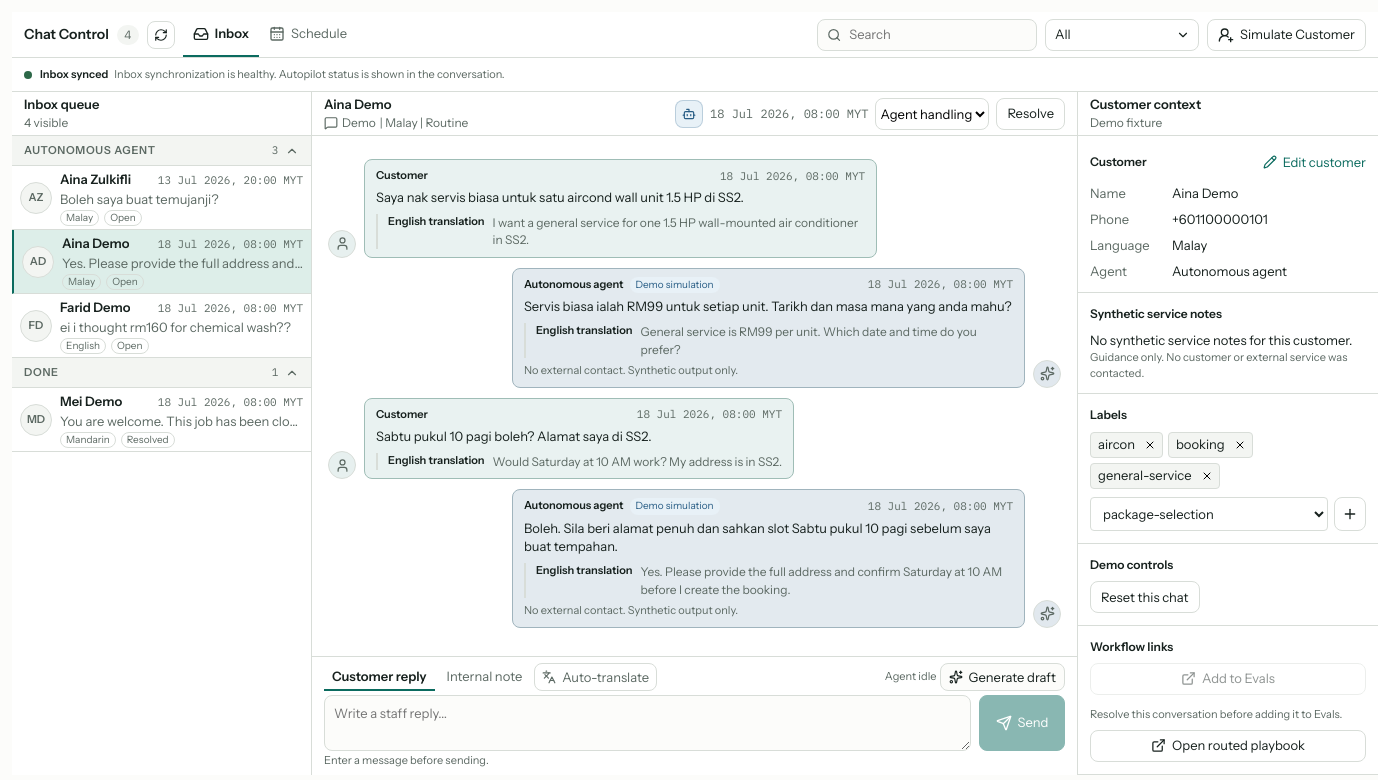
Scenario: Chat Control route › loads real Telegram text into Chat on entry without replacing synthetic threads
This screenshot has width=1378, height=780.
Click the button with aria-label "Open conversation with Aina Zulkifli".
click(162, 198)  # box x1=12 y1=166 x2=311 y2=230
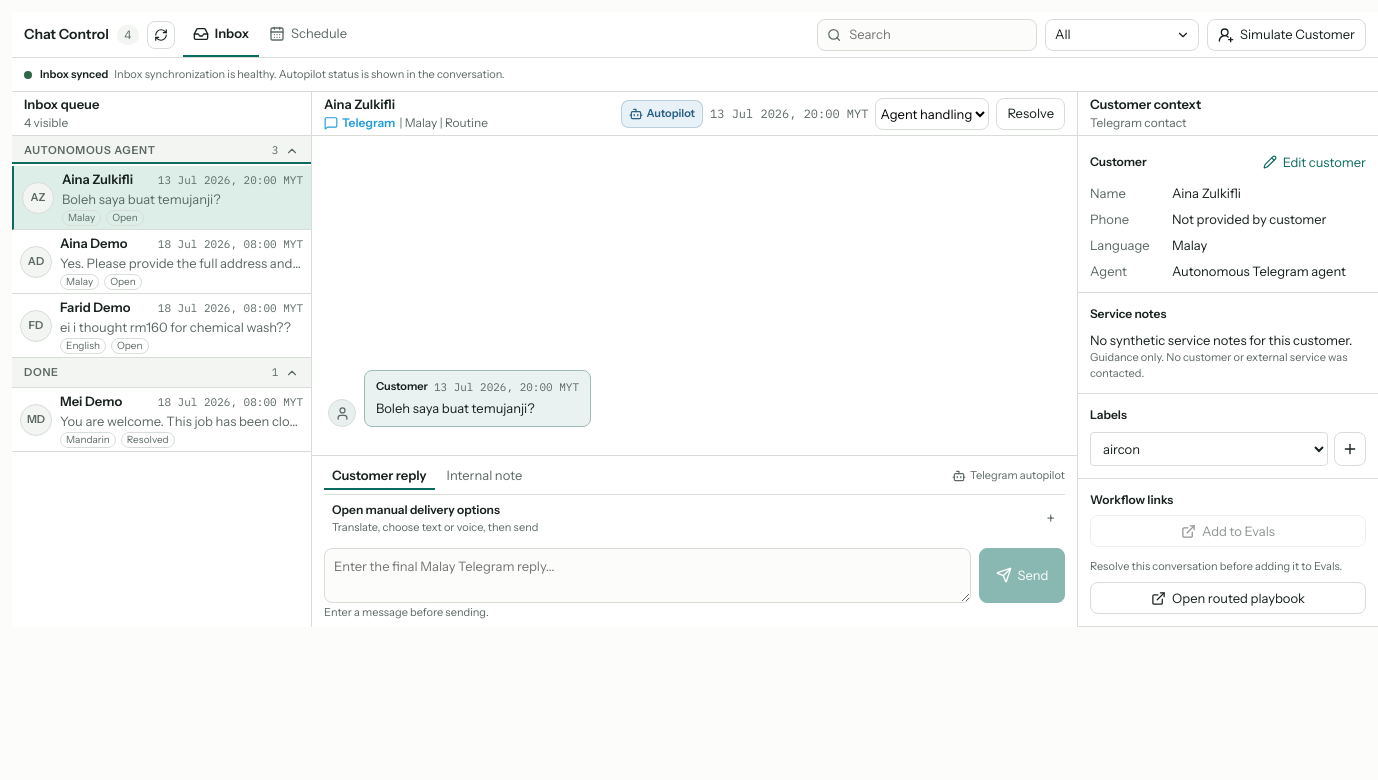
Result: the element named "Selected conversation" shows "Boleh saya buat temujanji?" at x1=376 y1=400 x2=534 y2=416
Result: the element named "Selected conversation" shows "Telegram" at x1=342 y1=115 x2=395 y2=130
Result: the button "Auto-translate" is gone
